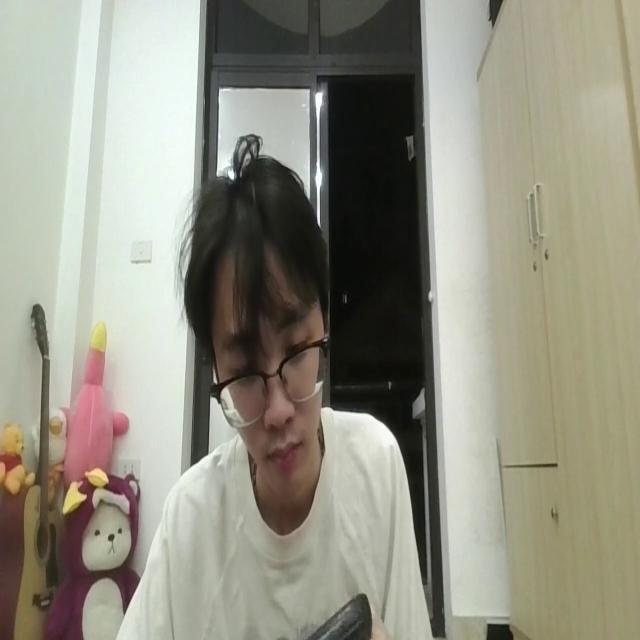phone: (298, 588, 372, 640)
student: (121, 146, 432, 640)
